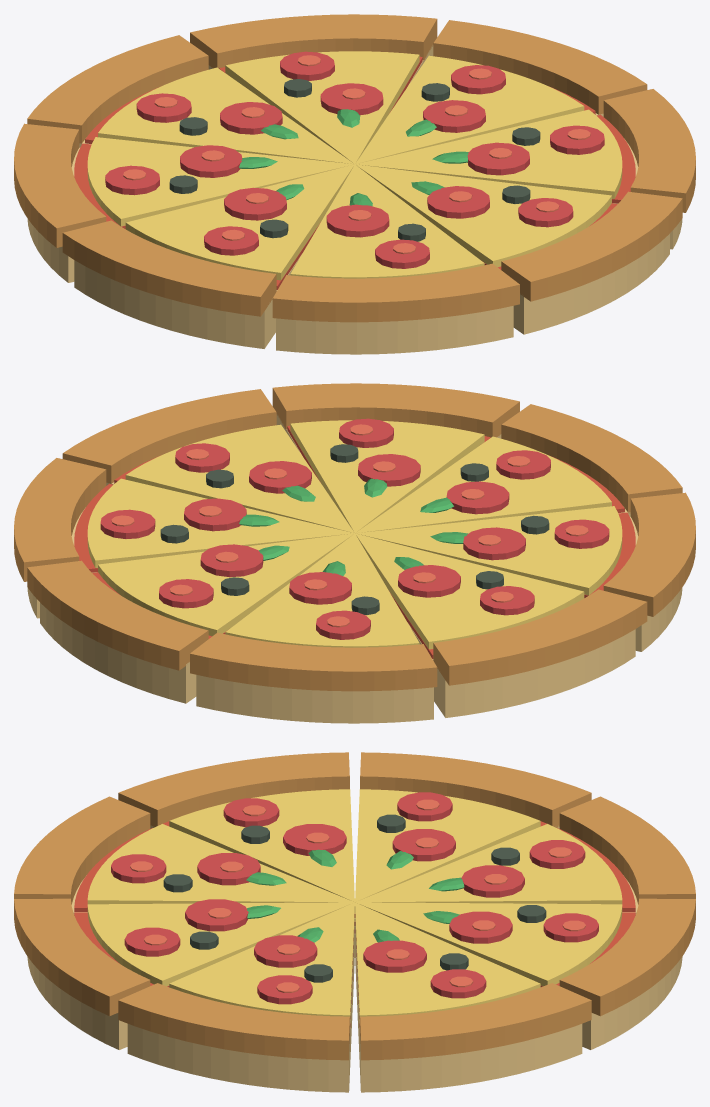
The model's file is pizza-pecahan-biasa.glb.
3 renders of one model, top to bottom at view 1: azimuth 30°, elevation 25°; view 2: azimuth 150°, elevation 25°; view 3: azimuth 270°, elevation 25°, orthographic.
Parts seen in each view (by area): view 1: Slice_06_Raised_Crust, Slice_05_Raised_Crust, Slice_07_Raised_Crust, Slice_02_Raised_Crust, Slice_07_Cheese, Slice_05_Cheese, Slice_02_Cheese, Slice_04_Cheese, Slice_01_Raised_Crust, Slice_08_Cheese, Slice_01_Cheese, Slice_03_Cheese (+26 smaller); view 2: Slice_03_Raised_Crust, Slice_04_Raised_Crust, Slice_02_Cheese, Slice_02_Raised_Crust, Slice_07_Raised_Crust, Slice_04_Cheese, Slice_07_Cheese, Slice_05_Cheese, Slice_08_Raised_Crust, Slice_01_Cheese, Slice_06_Cheese, Slice_08_Cheese (+26 smaller); view 3: Slice_01_Raised_Crust, Slice_08_Raised_Crust, Slice_07_Cheese, Slice_02_Cheese, Slice_05_Raised_Crust, Slice_04_Raised_Crust, Slice_04_Cheese, Slice_03_Cheese, Slice_05_Cheese, Slice_08_Cheese, Slice_01_Cheese, Slice_06_Cheese (+26 smaller).
Part boxes in pixels (bbox=[...]): Slice_06_Raised_Crust: bbox=[272, 263, 519, 322]; Slice_05_Raised_Crust: bbox=[62, 220, 276, 316]; Slice_07_Raised_Crust: bbox=[501, 191, 682, 301]; Slice_02_Raised_Crust: bbox=[190, 14, 437, 68]; Slice_07_Cheese: bbox=[355, 164, 611, 267]; Slice_05_Cheese: bbox=[125, 164, 354, 280]; Slice_02_Cheese: bbox=[225, 51, 419, 163]; Slice_04_Cheese: bbox=[87, 137, 353, 226]; Slice_01_Raised_Crust: bbox=[433, 20, 647, 114]; Slice_08_Cheese: bbox=[356, 109, 622, 198]; Slice_01_Cheese: bbox=[355, 55, 584, 164]; Slice_03_Cheese: bbox=[98, 67, 354, 164]; Slice_03_Raised_Crust: bbox=[190, 632, 437, 691]; Slice_04_Raised_Crust: bbox=[433, 589, 647, 685]; Slice_02_Cheese: bbox=[98, 533, 354, 636]; Slice_02_Raised_Crust: bbox=[27, 560, 208, 670]; Slice_07_Raised_Crust: bbox=[272, 383, 519, 437]; Slice_04_Cheese: bbox=[355, 533, 584, 649]; Slice_07_Cheese: bbox=[290, 420, 484, 532]; Slice_05_Cheese: bbox=[356, 506, 622, 595]; Slice_08_Raised_Crust: bbox=[62, 389, 276, 483]; Slice_01_Cheese: bbox=[87, 478, 353, 567]; Slice_06_Cheese: bbox=[355, 436, 611, 533]; Slice_08_Cheese: bbox=[125, 424, 354, 533]; Slice_01_Raised_Crust: bbox=[360, 983, 591, 1060]; Slice_08_Raised_Crust: bbox=[118, 983, 349, 1060]; Slice_07_Cheese: bbox=[87, 902, 354, 986]; Slice_02_Cheese: bbox=[355, 902, 622, 986]; Slice_05_Raised_Crust: bbox=[118, 752, 349, 826]; Slice_04_Raised_Crust: bbox=[360, 752, 591, 827]; Slice_04_Cheese: bbox=[355, 789, 540, 901]; Slice_03_Cheese: bbox=[355, 824, 622, 904]; Slice_05_Cheese: bbox=[169, 789, 354, 901]; Slice_08_Cheese: bbox=[169, 902, 354, 1022]; Slice_01_Cheese: bbox=[355, 902, 540, 1022]; Slice_06_Cheese: bbox=[87, 824, 354, 904].
Size of the model in its own units: 2.04 by 0.1985 by 2.04.
